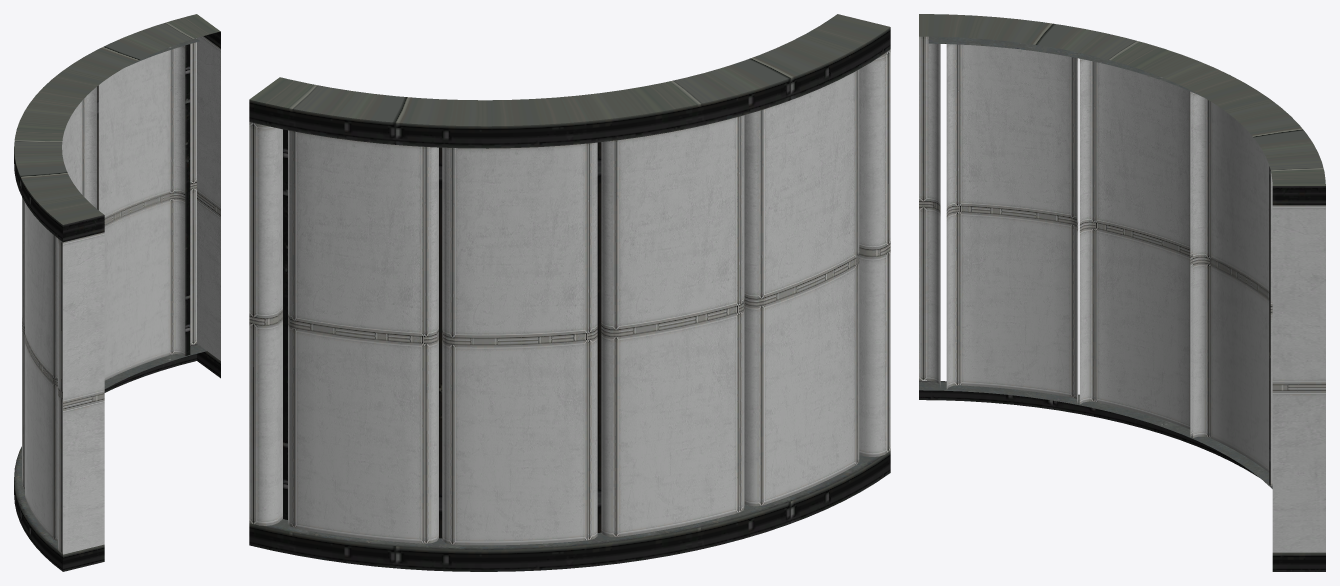
File: Neon_Wall_6x4_Bend_Out.FBX
The picture shows the model from 3 angles, left to right: view 1: azimuth 30°, elevation 25°; view 2: azimuth 150°, elevation 25°; view 3: azimuth 270°, elevation 25°; orthographic projection. The views are drawn at different scales.
Parts seen in each view (by area): view 1: Neon_Wall_6x4_Bend_Out; view 2: Neon_Wall_6x4_Bend_Out; view 3: Neon_Wall_6x4_Bend_Out.
Boxes of the visible parts, left/top/right/bottom form: Neon_Wall_6x4_Bend_Out: left=14, top=14, right=220, bottom=571; Neon_Wall_6x4_Bend_Out: left=249, top=14, right=890, bottom=571; Neon_Wall_6x4_Bend_Out: left=919, top=14, right=1325, bottom=571.
Bounding box in the file's own units: 3.82 × 4 × 3.82.
